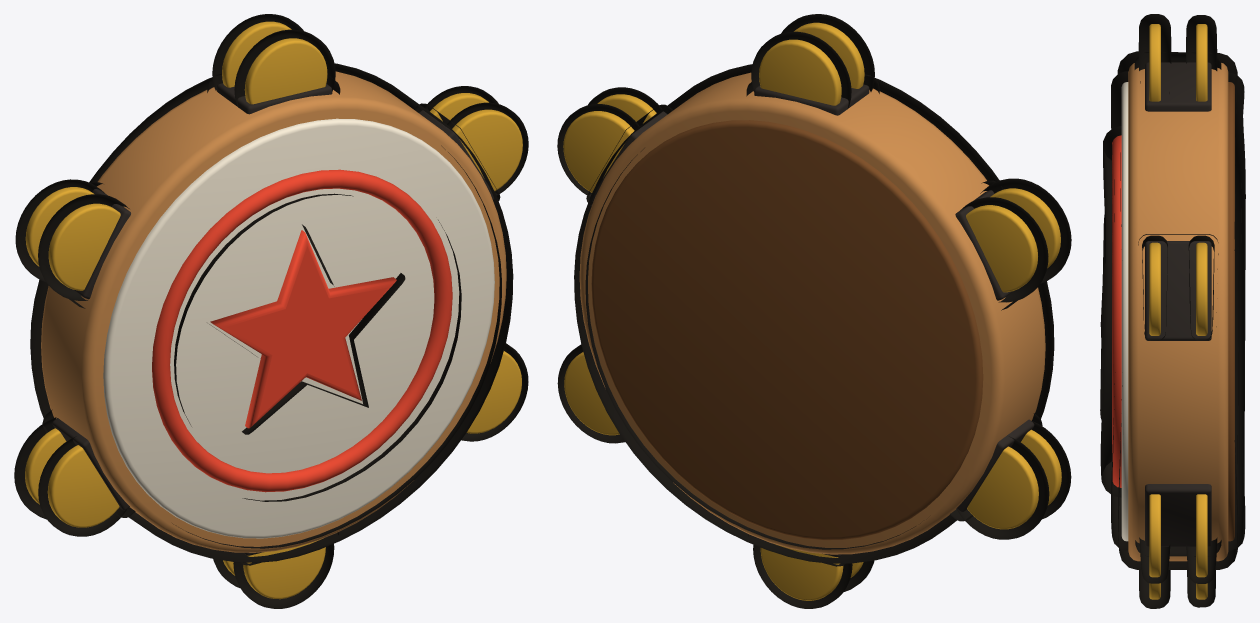
The model's file is tambourine.glb.
3 renders of one model, left to right at view 1: azimuth 30°, elevation 25°; view 2: azimuth 150°, elevation 25°; view 3: azimuth 270°, elevation 25°, orthographic. The views are drawn at different scales.
Parts seen in each view (by area): view 1: Tambourine, Tambourine_outline; view 2: Tambourine, Tambourine_outline; view 3: Tambourine, Tambourine_outline.
Boxes of the visible parts, x1,y1,x2,y2 form: Tambourine: (25, 21, 522, 599); Tambourine_outline: (14, 14, 528, 608); Tambourine: (563, 22, 1061, 600); Tambourine_outline: (557, 14, 1071, 608); Tambourine: (1112, 24, 1234, 599); Tambourine_outline: (1100, 14, 1245, 608).
Bounding box in the file's own units: 1.72 × 1.94 × 0.4372.
